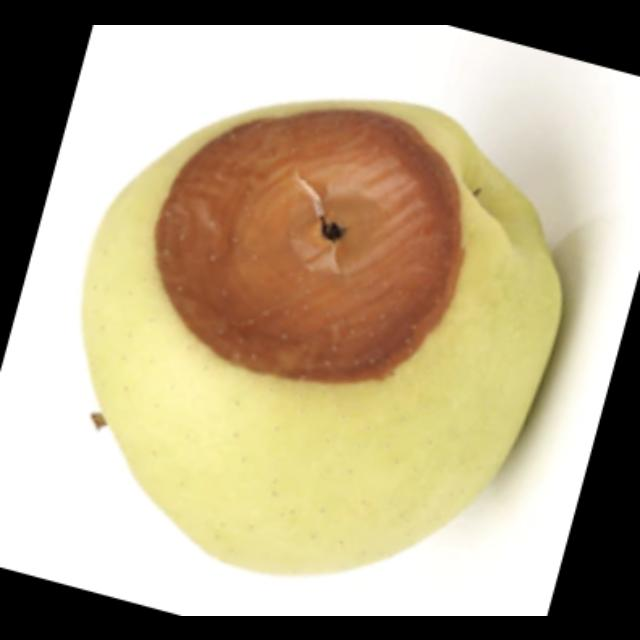Apel Tidak Segar: (73, 82, 595, 572)
